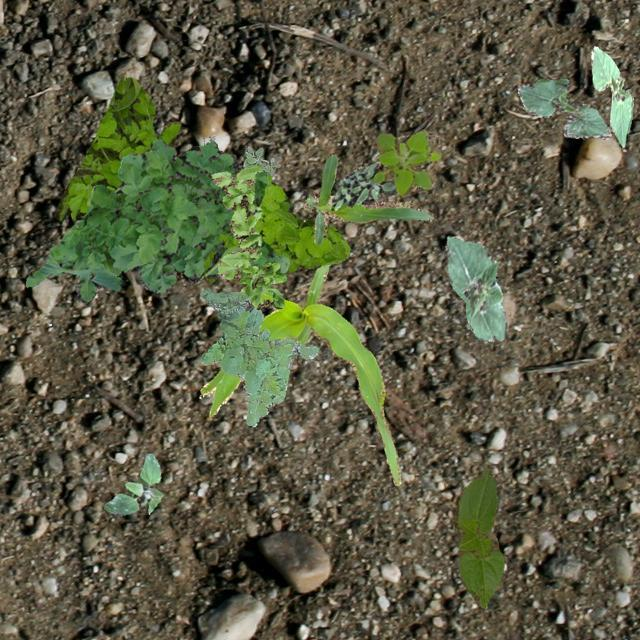crop: (200, 264, 400, 484), (302, 154, 432, 244), (452, 466, 502, 606), (444, 236, 506, 340), (516, 78, 610, 138), (590, 46, 632, 146)
weed: (54, 76, 348, 282), (25, 136, 288, 302), (198, 288, 318, 426), (210, 164, 286, 308), (374, 128, 441, 196), (102, 452, 162, 514), (330, 162, 396, 210), (242, 146, 278, 174)
